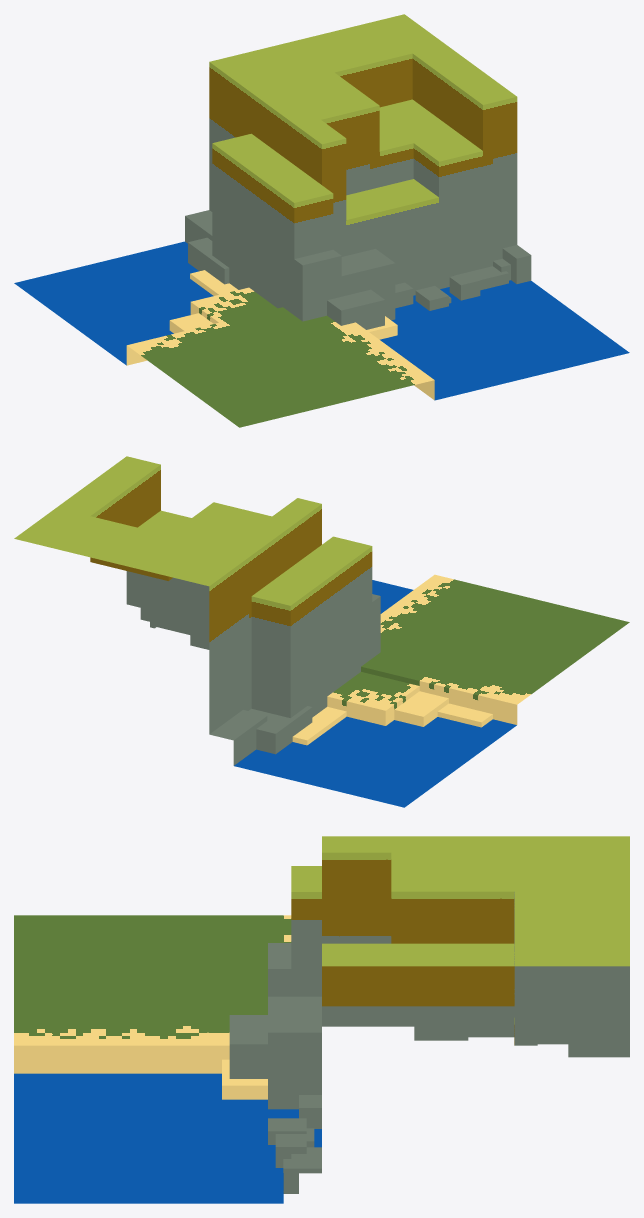
Rendered from WMWL(1).glb.
3 views of the same model, one above another, from view 1: azimuth 30°, elevation 25°; view 2: azimuth 150°, elevation 25°; view 3: azimuth 270°, elevation 25° (orthographic). The views are drawn at different scales.
Parts seen in each view (by area): view 1: model_0.055; view 2: model_0.055; view 3: model_0.055.
Part boxes in pixels (x1,y1,x2,y2): model_0.055: (14, 14, 629, 427); model_0.055: (14, 456, 629, 807); model_0.055: (14, 836, 629, 1203).
Size of the model in its own units: 80 by 34 by 80.
1 material, 1 textured.
